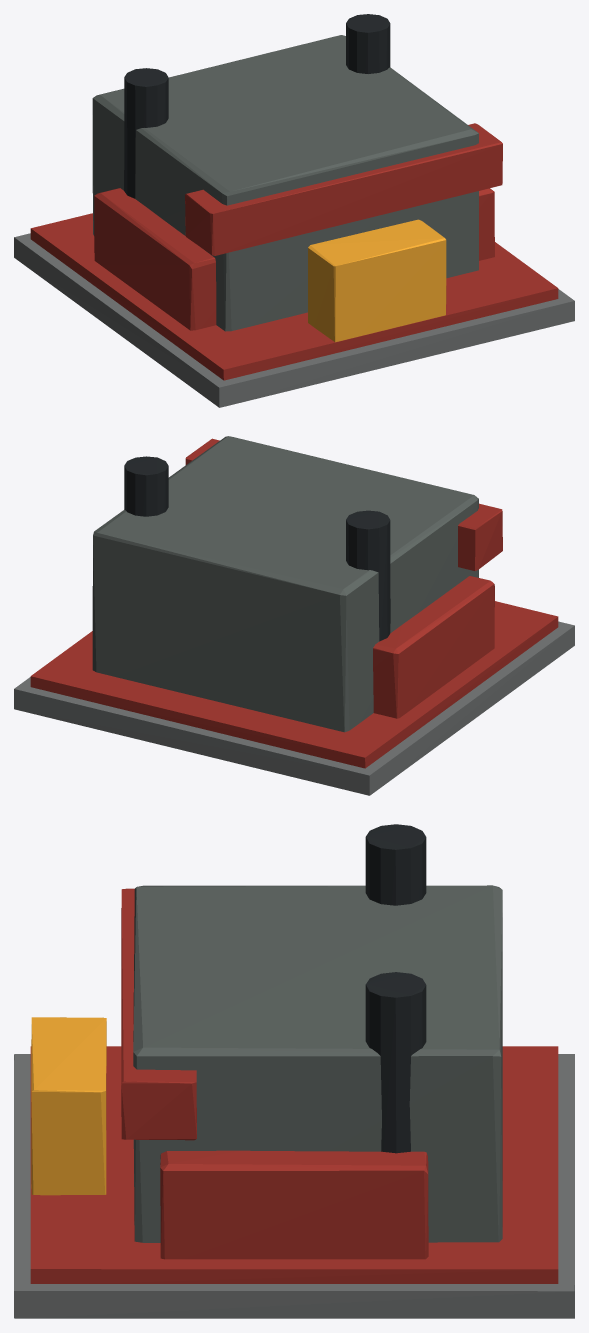
File: SM_Soviet_SU_Barracks_LOD2.fbx
3 renders of one model, top to bottom at view 1: azimuth 30°, elevation 25°; view 2: azimuth 150°, elevation 25°; view 3: azimuth 270°, elevation 25°, orthographic. The views are drawn at different scales.
Visible parts, largest first — view 1: LOD02_SM_Soviet_SU_Barracks; view 2: LOD02_SM_Soviet_SU_Barracks; view 3: LOD02_SM_Soviet_SU_Barracks.
Boxes of the visible parts, bbox=[...] form: LOD02_SM_Soviet_SU_Barracks: bbox=[14, 14, 574, 407]; LOD02_SM_Soviet_SU_Barracks: bbox=[14, 436, 574, 795]; LOD02_SM_Soviet_SU_Barracks: bbox=[14, 824, 574, 1318].
Bounding box in the file's own units: 597 × 597 × 340.
